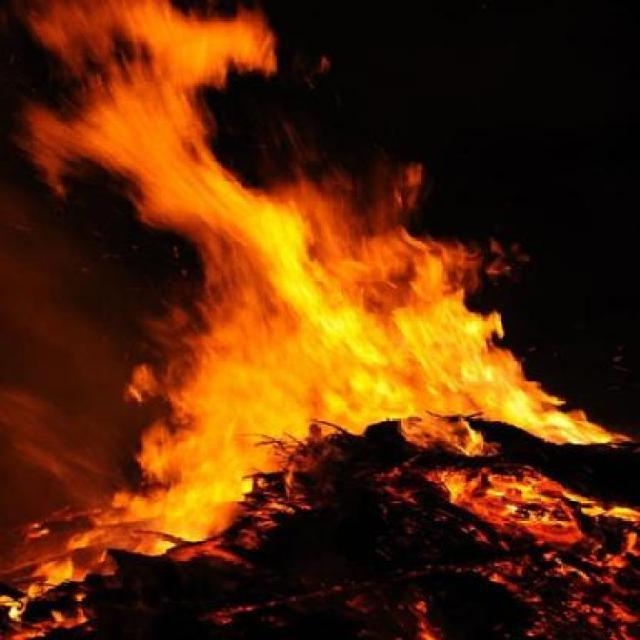Fire: (148, 260, 626, 465), (16, 473, 264, 640), (425, 460, 640, 639)
Smoke: (17, 0, 316, 257)
